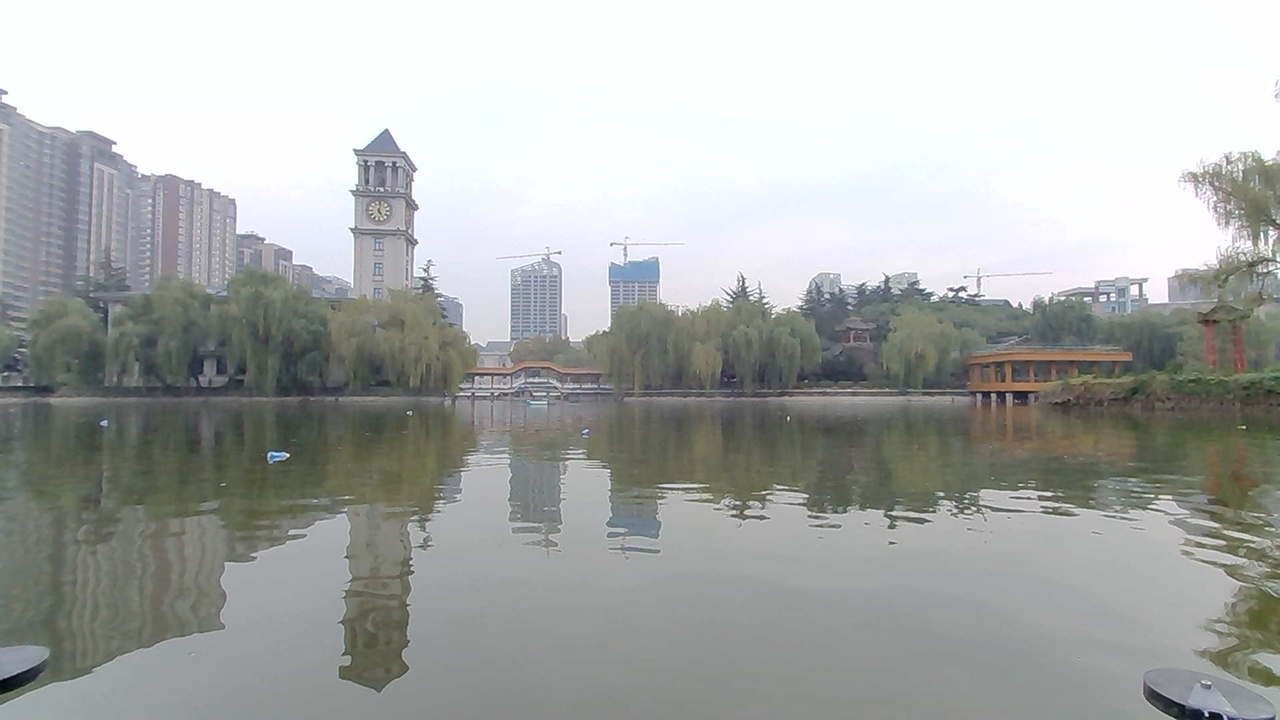bottle: (567, 419, 601, 446), (92, 409, 130, 433), (779, 405, 809, 431), (261, 446, 298, 467), (392, 399, 421, 421)
